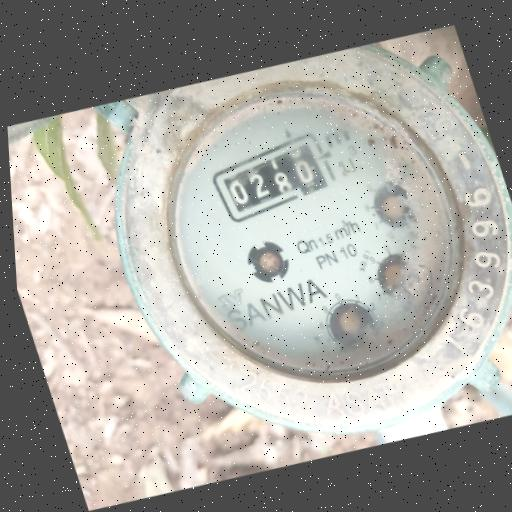0: (281, 140, 330, 198), (220, 170, 258, 215)
2: (239, 161, 279, 207)
7: (258, 150, 301, 198)
border_water_meter_number: (200, 123, 345, 233)
